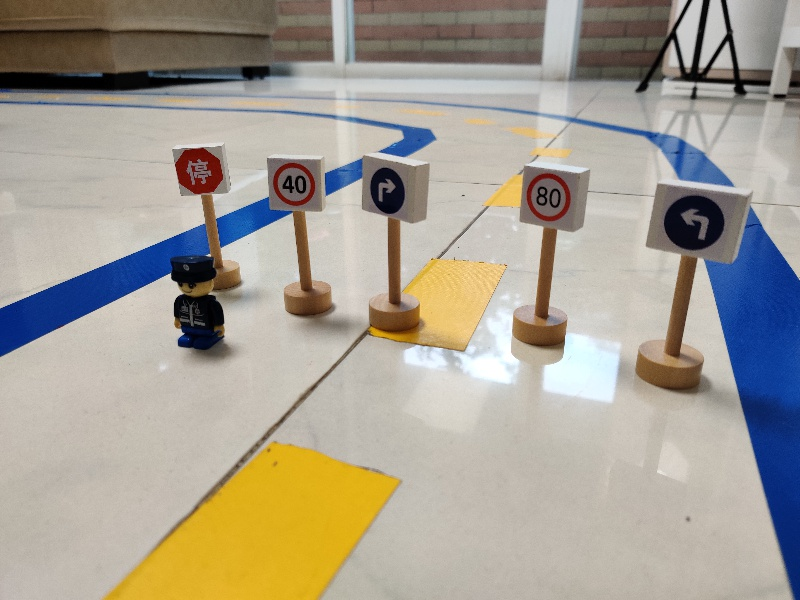limit_40: (260, 150, 329, 215)
limit_80: (518, 160, 592, 233)
person: (162, 253, 229, 352)
stop: (168, 142, 233, 199)
turn_left: (644, 178, 755, 262)
turn_right: (358, 150, 431, 225)
